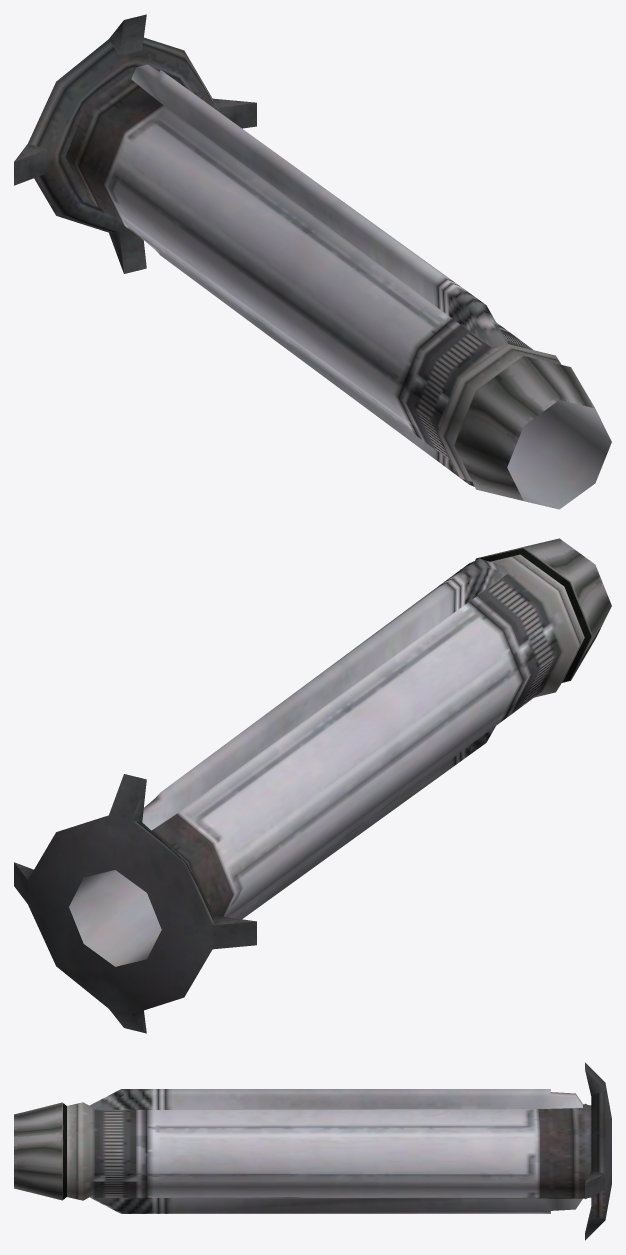
File: eqp_comp_chaff_launcher_l1.fbx
3 renders of one model, top to bottom at view 1: azimuth 30°, elevation 25°; view 2: azimuth 150°, elevation 25°; view 3: azimuth 270°, elevation 25°, orthographic. The views are drawn at different scales.
Parts seen in each view (by area): view 1: mesh_node; view 2: mesh_node; view 3: mesh_node.
Boxes of the visible parts, x1,y1,x2,y2 form: mesh_node: (14, 14, 611, 509); mesh_node: (14, 538, 611, 1033); mesh_node: (14, 1062, 611, 1240).
Size of the model in its own units: 0.6313 by 0.6313 by 2.
